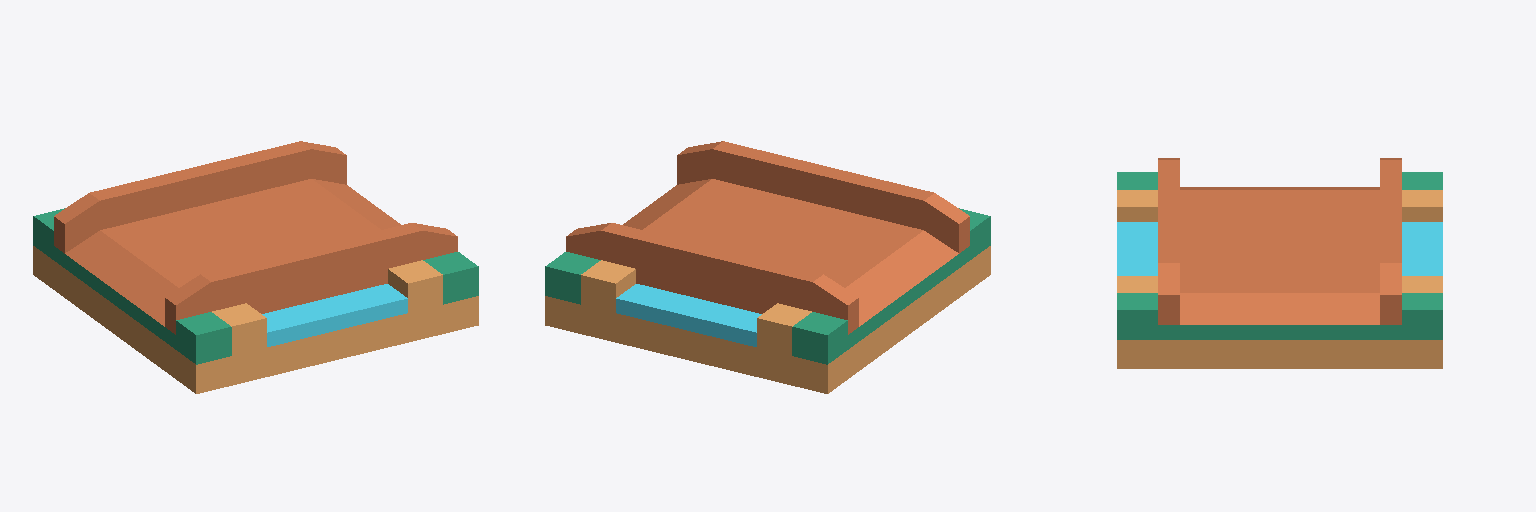
The model's file is tile_riverBridge.obj.
3 views of the same model, side by side, from view 1: azimuth 30°, elevation 25°; view 2: azimuth 150°, elevation 25°; view 3: azimuth 270°, elevation 25° (orthographic).
Visible parts, largest first — view 1: tile_riverBridge; view 2: tile_riverBridge; view 3: tile_riverBridge.
Boxes of the visible parts, <box> form: tile_riverBridge: <box>33,141,478,393</box>; tile_riverBridge: <box>545,141,990,393</box>; tile_riverBridge: <box>1117,158,1442,368</box>.
Size of the model in its own units: 1 by 0.3 by 1.